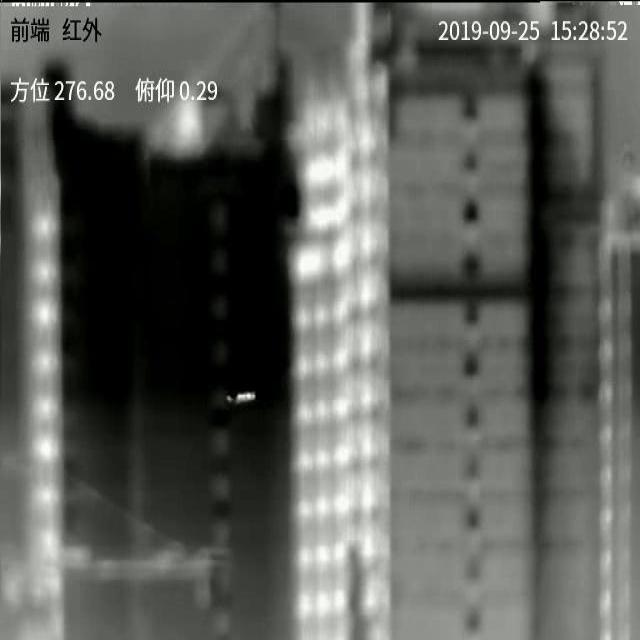drone: (226, 393, 255, 404)
